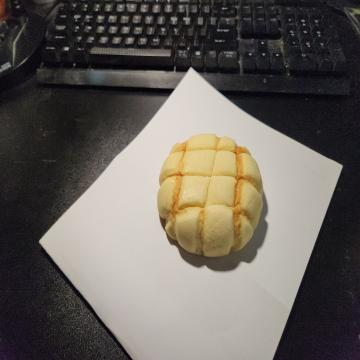melon_bread: (157, 133, 263, 257)
